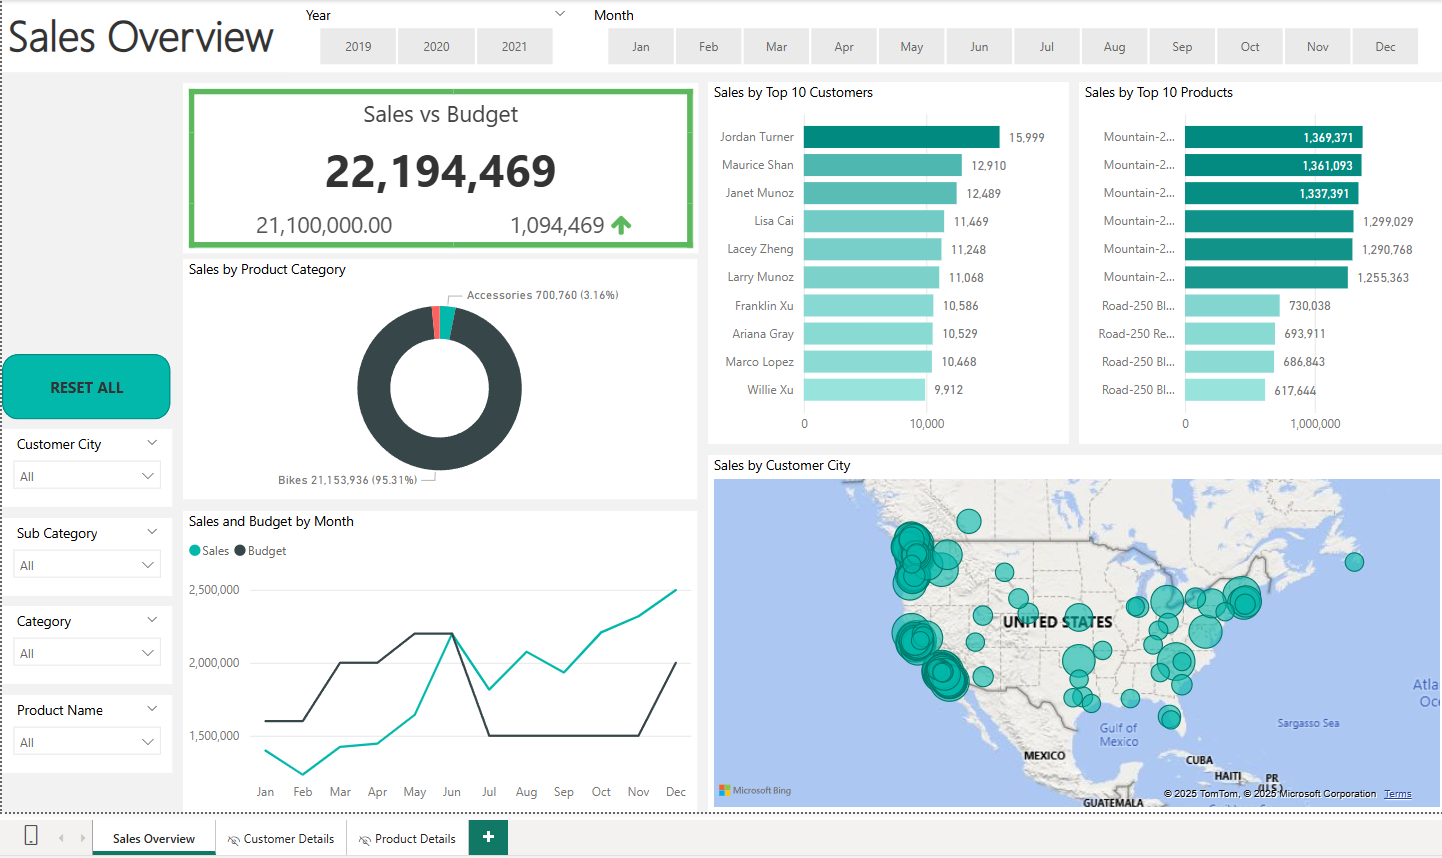

Layout of this report page (visuals, bound fields, positions):
{"tool":"powerbi","page":{"name":"Sales Overview","canvas":[1280,720],"ordinal":0},"visuals":[{"type":"textbox","box":[0,0,1280,64],"z":0},{"type":"slicer","fields":{"Values":["DIM_Calendar.Year"]},"box":[256,0,256,64],"z":1000},{"type":"slicer","fields":{"Values":["DIM_Calendar.MonthShort"]},"box":[512,0,768,64],"z":2000},{"type":"slicer","fields":{"Values":["DIM_Customers.Customer City"]},"box":[0,380.8,150.5,69.3],"z":3000},{"type":"slicer","fields":{"Values":["DIM_Products.Product Category"]},"box":[0,537.7,150.5,69.3],"z":4000},{"type":"slicer","fields":{"Values":["DIM_Products.Product Name"]},"box":[0,616.1,150.5,69.3],"z":5000},{"type":"slicer","fields":{"Values":["DIM_Products.Sub Category"]},"box":[0,459.2,150.5,69.3],"z":6000},{"type":"barChart","title":"Sales by Top 10 Products","fields":{"Category":["DIM_Products.Product Name"],"Y":["Analysis Metrics.Sales"]},"box":[955.2,73,324.8,321.1],"z":7000},{"type":"lineChart","fields":{"Category":["DIM_Calendar.MonthShort"],"Y":["Analysis Metrics.Sales","Analysis Metrics.Budget"]},"box":[160.7,452.8,456.3,267.2],"z":8000},{"type":"barChart","title":"Sales by Top 10 Customers","fields":{"Category":["DIM_Customers.Full Name"],"Y":["Analysis Metrics.Sales"]},"box":[625.9,73,320.2,321.1],"z":9000},{"type":"donutChart","fields":{"Y":["Analysis Metrics.Sales"],"Series":["DIM_Products.Product Category"]},"box":[160.6,229.9,456.2,213.5],"z":10000},{"type":"map","fields":{"Category":["DIM_Customers.Customer City"],"Size":["Analysis Metrics.Sales"]},"box":[625.9,403.3,654.1,316.6],"z":11000},{"type":"BBED0A4D4D8D44CE93CF2DAFADEE466C","fields":{"actual":["Analysis Metrics.Sales"],"target2":["Analysis Metrics.Sales / Budget"],"target1":["Analysis Metrics.Budget"]},"box":[160.5,73.4,456.6,151.3],"z":12000},{"type":"shape","box":[0,314.3,150.4,58.4],"z":13000}]}

Visuals, with their boxes on the page's 1280x720 design canvas (x1, y1, x2, y2). These are canvas units, not pixel positions in the 1442x858 screenshot, which may show the page scaled, cropped or inside an application window:
textbox: 0,0,1280,64
slicer - DIM_Calendar.Year: 256,0,512,64
slicer - DIM_Calendar.MonthShort: 512,0,1280,64
slicer - DIM_Customers.Customer City: 0,381,150,450
slicer - DIM_Products.Product Category: 0,538,150,607
slicer - DIM_Products.Product Name: 0,616,150,685
slicer - DIM_Products.Sub Category: 0,459,150,528
"Sales by Top 10 Products" barChart: 955,73,1280,394
lineChart - DIM_Calendar.MonthShort x Analysis Metrics.Sales: 161,453,617,720
"Sales by Top 10 Customers" barChart: 626,73,946,394
donutChart - Analysis Metrics.Sales x DIM_Products.Product Category: 161,230,617,443
map - DIM_Customers.Customer City x Analysis Metrics.Sales: 626,403,1280,720
BBED0A4D4D8D44CE93CF2DAFADEE466C - Analysis Metrics.Sales x Analysis Metrics.Sales / Budget: 160,73,617,225
shape: 0,314,150,373
